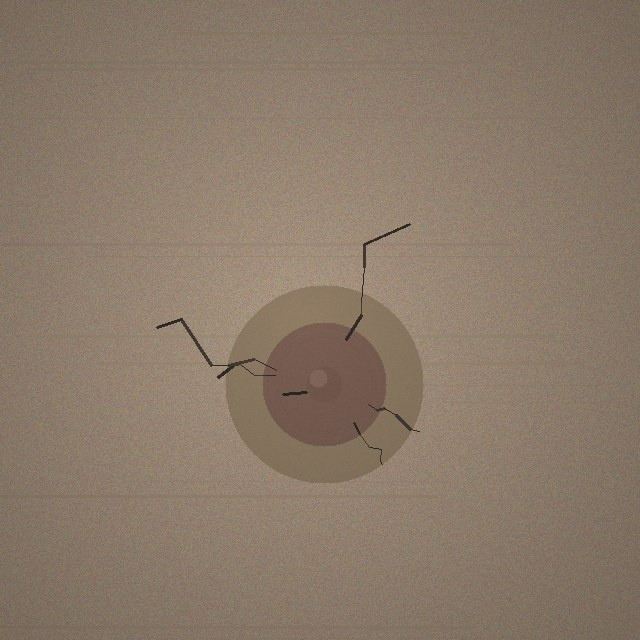crack: (225, 285, 423, 483)
